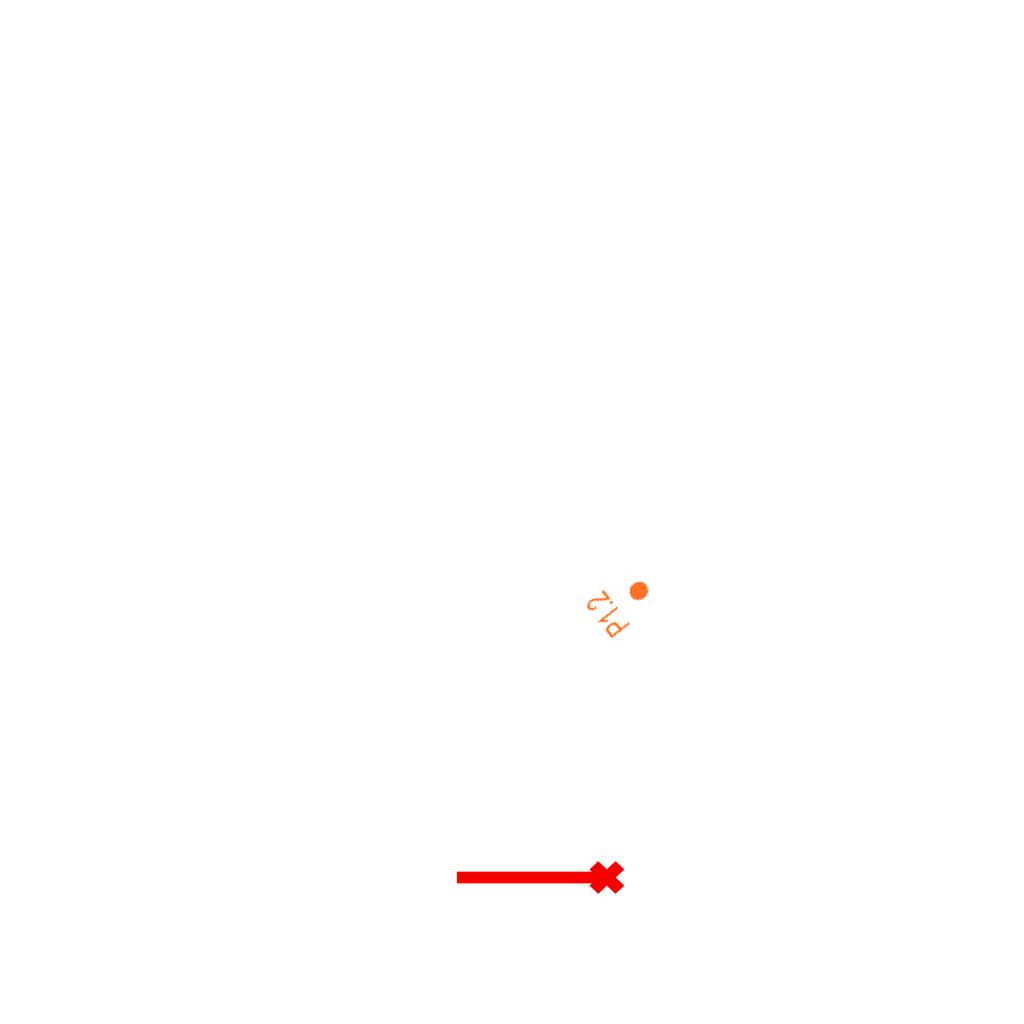ASR_Ansaugoeffnung: (451, 857, 627, 903)
Downlight_LED_Einbauleuchten_Flur: (582, 565, 662, 641)
